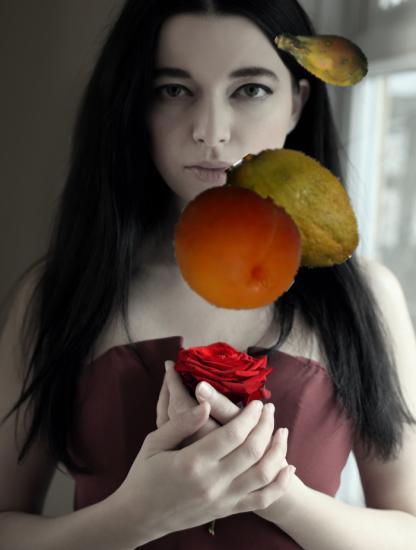Apricot: (170, 181, 304, 315)
Cactus: (273, 5, 372, 104)
Papaya: (220, 140, 363, 283)
